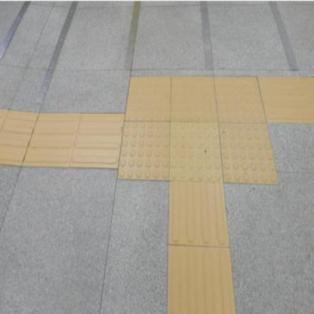Podoctatil: (91, 36, 304, 246), (170, 183, 236, 313), (0, 106, 120, 167), (268, 78, 313, 121)
